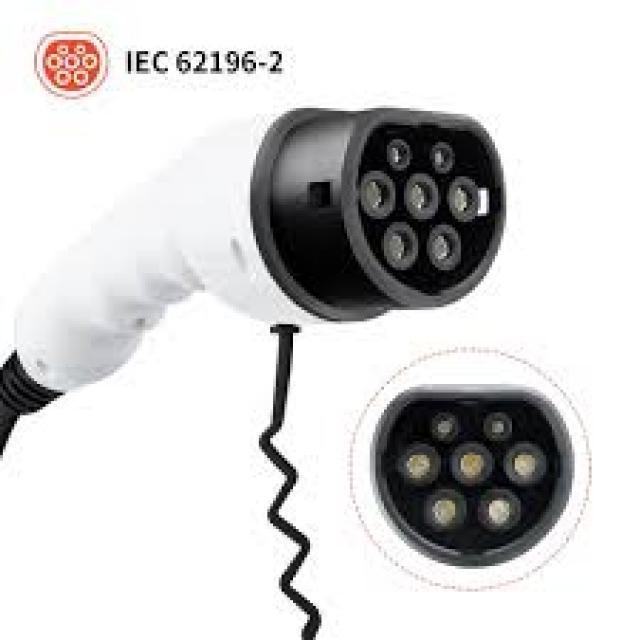Type 2: (330, 349, 610, 603)
